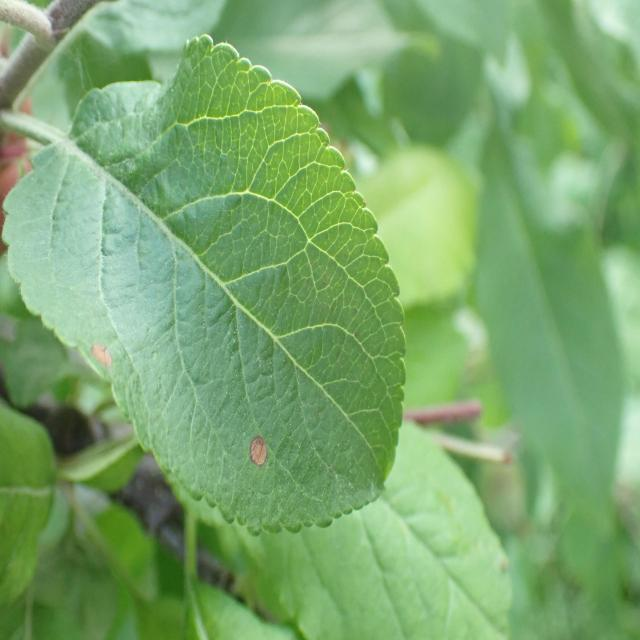Black Rot: (82, 324, 125, 397), (244, 411, 269, 470)
